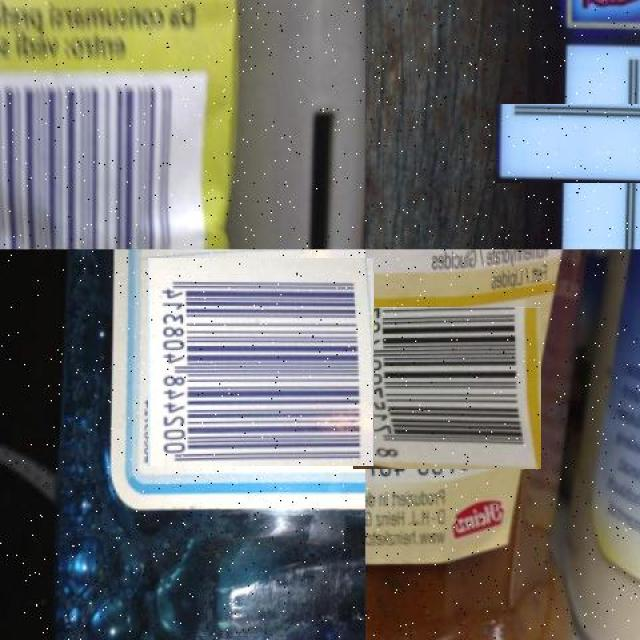Barcode: (152, 253, 369, 471), (0, 68, 211, 249), (359, 300, 534, 475), (529, 71, 640, 216)
